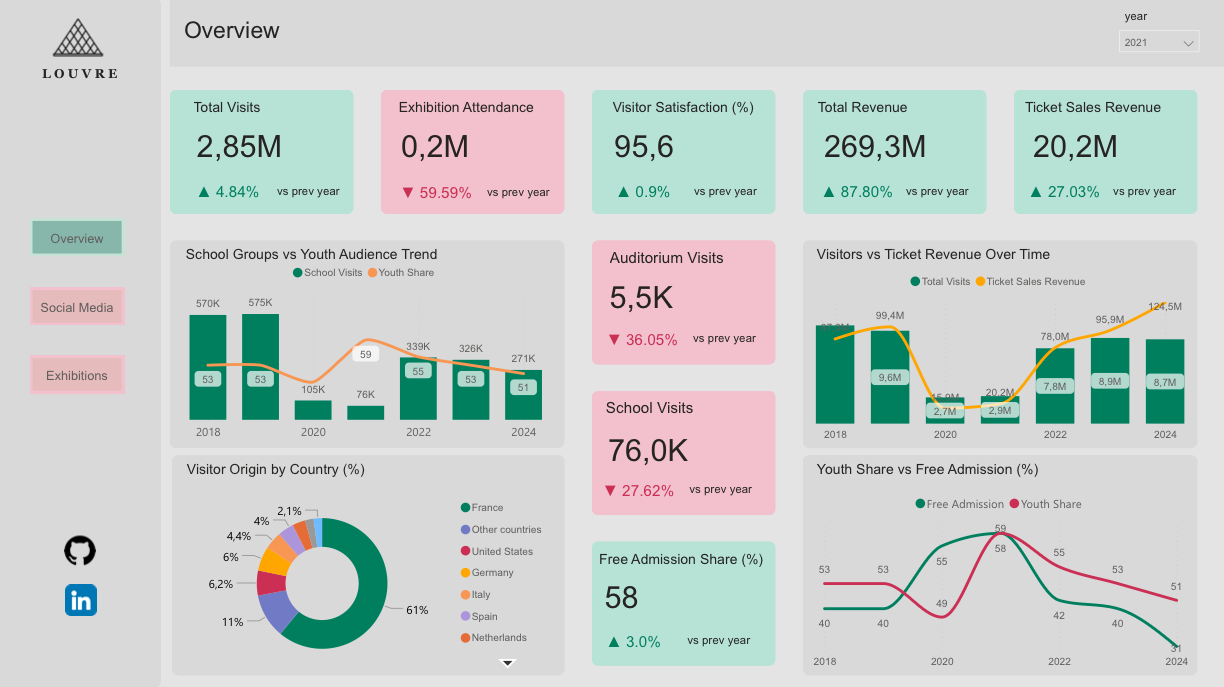

What the dashboard file says about the page in this screenshot:
{"tool":"powerbi","page":{"name":"Overview","canvas":[1280,720],"ordinal":0},"visuals":[{"type":"shape","box":[840.5,477.3,411.2,230],"z":0},{"type":"shape","box":[840.5,252.7,411.2,217.4],"z":1000},{"type":"shape","box":[180.2,253,412.1,217.4],"z":2000},{"type":"shape","box":[180,96,192,130],"z":3000},{"type":"textbox","box":[180,0,1100,72],"z":4000},{"type":"shape","box":[182,477.3,410.3,230],"z":5000},{"type":"lineClusteredColumnComboChart","fields":{"Category":["year.year"],"Y":["visitors_total.Total Visitors"],"Y2":["revenue.Total Revenue type 2"]},"box":[845.9,277.1,400.3,192.9],"z":6000},{"type":"textbox","box":[850,253,304.3,35.3],"z":7000},{"type":"textbox","box":[850.4,477.3,289.8,31.7],"z":8000},{"type":"slicer","fields":{"Values":["year.year"]},"box":[1160,24,104,40],"z":10000},{"type":"lineChart","fields":{"Y":["visitor_metrics.Free Entry Percent"],"Category":["year.year"],"Y2":["visitor_metrics.Youth Percent"]},"box":[845.9,508.1,401.2,199.2],"z":11000},{"type":"card","fields":{"Values":["visitors_total.Total Visitors"]},"box":[189,122,128,64],"z":12000},{"type":"donutChart","fields":{"Category":["country.country_name"],"Y":["visitors_by_country.Visitor by country"]},"box":[190.2,515.3,394.9,192],"z":13000},{"type":"shape","box":[0,0,171.2,720],"z":14000},{"type":"textbox","box":[192.9,477,394.9,29.9],"z":15000},{"type":"textbox","box":[1168,0,88,32],"z":16000},{"type":"textbox","box":[197,96,152,40],"z":18000},{"type":"card","fields":{"Values":["visitors_total.Visitor vs Prev Label"]},"box":[193,184,96,40],"z":19000},{"type":"textbox","box":[287,184,80,32],"z":20000},{"type":"shape","box":[620,96,192,130],"z":21000},{"type":"card","fields":{"Values":["visitor_metrics.Satisfaction"]},"box":[611,122,128,63.4],"z":22000},{"type":"textbox","box":[634,96,162.1,39.8],"z":23000},{"type":"card","fields":{"Values":["visitor_metrics.Satisfaction vs Prev Label"]},"box":[625.9,184,96,40],"z":24000},{"type":"textbox","box":[721.9,184,80,32],"z":25000},{"type":"shape","box":[840,96,192,130],"z":26000},{"type":"card","fields":{"Values":["revenue.Total Revenue type 1"]},"box":[852,122,128,64],"z":27000},{"type":"textbox","box":[848,96,152,40],"z":28000},{"type":"card","fields":{"Values":["revenue.Revenue vs Prev Label"]},"box":[848.9,184,96,40],"z":29000},{"type":"shape","box":[400.3,96,192,130.4],"z":30000},{"type":"card","fields":{"Values":["exhibition_visitors.Value Numeric exhibition"]},"box":[393.1,122,128,64],"z":31000},{"type":"textbox","box":[411.2,96,162.1,39.8],"z":32000},{"type":"card","fields":{"Values":["exhibition_visitors.Visitors ex vs Prev Label"]},"box":[409.8,184.6,96,40],"z":33000},{"type":"textbox","box":[505.8,184.6,80,32],"z":34000},{"type":"textbox","box":[942.8,184,79.9,31.4],"z":35000},{"type":"shape","box":[1060,96,192,130],"z":36000},{"type":"card","fields":{"Values":["revenue.Total Revenue type 2"]},"box":[1061,122,128,64],"z":37000},{"type":"textbox","box":[1064.2,96,182,39.8],"z":38000},{"type":"card","fields":{"Values":["revenue.Tickets vs Prev Label"]},"box":[1064.9,184,96,40],"z":39000},{"type":"textbox","box":[1158.8,184,79.9,31.4],"z":40000},{"type":"actionButton","box":[33.5,302.4,99.6,39.8],"z":41000},{"type":"lineClusteredColumnComboChart","fields":{"Category":["year.year"],"Y":["visitor_metrics.School Group Visitors"],"Y2":["visitor_metrics.Youth Percent"]},"box":[192.9,268.1,383.1,202],"z":42000},{"type":"shape","box":[620,253,192,130],"z":43000},{"type":"card","fields":{"Values":["visitor_metrics.Auditorium"]},"box":[617,279,109.6,64.3],"z":44000},{"type":"textbox","box":[631.1,253,152,40],"z":45000},{"type":"card","fields":{"Values":["visitor_metrics.Auditorium vs Prev Label"]},"box":[625,338,96,40],"z":46000},{"type":"textbox","box":[721,338,80,32],"z":47000},{"type":"shape","box":[620,410,192,130],"z":48000},{"type":"card","fields":{"Values":["visitor_metrics.School Group Visitors"]},"box":[619,439,119.5,64.3],"z":49000},{"type":"textbox","box":[626.6,410,152,40],"z":50000},{"type":"card","fields":{"Values":["visitor_metrics.School visitors vs Prev Label"]},"box":[620.5,495,96,40],"z":51000},{"type":"textbox","box":[716.5,495,80,32],"z":52000},{"type":"shape","box":[620,567.1,192,130],"z":53000},{"type":"card","fields":{"Values":["visitor_metrics.Free Entry Percent"]},"box":[613,593,77,63.4],"z":54000},{"type":"textbox","box":[620.4,566.9,198.3,39.8],"z":55000},{"type":"card","fields":{"Values":["visitor_metrics.Free entry vs Prev Label"]},"box":[616,652.8,96,40],"z":56000},{"type":"textbox","box":[715,652.8,80,32],"z":57000},{"type":"actionButton","box":[33.5,373,99.6,39.8],"z":58000},{"type":"image","box":[57.1,10.9,55.2,61.6],"z":59000},{"type":"textbox","box":[42,64,111,37],"z":60000},{"type":"image","box":[65,559.7,42.6,33.5],"z":61000},{"type":"actionButton","box":[33.5,229.9,99.6,39.8],"z":62000},{"type":"textbox","box":[192,253,288,36.2],"z":63000},{"type":"image","box":[62,612,49.8,33],"z":63001}]}

Visuals, with their boxes on the page's 1280x720 design canvas (x1, y1, x2, y2). These are canvas units, not pixel positions in the 1224x687 screenshot, which may show the page scaled, cropped or inside an application window:
shape: 840:477:1252:707
shape: 840:253:1252:470
shape: 180:253:592:470
shape: 180:96:372:226
textbox: 180:0:1280:72
shape: 182:477:592:707
lineClusteredColumnComboChart - year.year x visitors_total.Total Visitors: 846:277:1246:470
textbox: 850:253:1154:288
textbox: 850:477:1140:509
slicer - year.year: 1160:24:1264:64
lineChart - visitor_metrics.Free Entry Percent x year.year: 846:508:1247:707
card - visitors_total.Total Visitors: 189:122:317:186
donutChart - country.country_name x visitors_by_country.Visitor by country: 190:515:585:707
shape: 0:0:171:720
textbox: 193:477:588:507
textbox: 1168:0:1256:32
textbox: 197:96:349:136
card - visitors_total.Visitor vs Prev Label: 193:184:289:224
textbox: 287:184:367:216
shape: 620:96:812:226
card - visitor_metrics.Satisfaction: 611:122:739:185
textbox: 634:96:796:136
card - visitor_metrics.Satisfaction vs Prev Label: 626:184:722:224
textbox: 722:184:802:216
shape: 840:96:1032:226
card - revenue.Total Revenue type 1: 852:122:980:186
textbox: 848:96:1000:136
card - revenue.Revenue vs Prev Label: 849:184:945:224
shape: 400:96:592:226
card - exhibition_visitors.Value Numeric exhibition: 393:122:521:186
textbox: 411:96:573:136
card - exhibition_visitors.Visitors ex vs Prev Label: 410:185:506:225
textbox: 506:185:586:217
textbox: 943:184:1023:215
shape: 1060:96:1252:226
card - revenue.Total Revenue type 2: 1061:122:1189:186
textbox: 1064:96:1246:136
card - revenue.Tickets vs Prev Label: 1065:184:1161:224
textbox: 1159:184:1239:215
actionButton: 34:302:133:342
lineClusteredColumnComboChart - year.year x visitor_metrics.School Group Visitors: 193:268:576:470
shape: 620:253:812:383
card - visitor_metrics.Auditorium: 617:279:727:343
textbox: 631:253:783:293
card - visitor_metrics.Auditorium vs Prev Label: 625:338:721:378
textbox: 721:338:801:370
shape: 620:410:812:540
card - visitor_metrics.School Group Visitors: 619:439:738:503
textbox: 627:410:779:450
card - visitor_metrics.School visitors vs Prev Label: 620:495:716:535
textbox: 716:495:796:527
shape: 620:567:812:697
card - visitor_metrics.Free Entry Percent: 613:593:690:656
textbox: 620:567:819:607
card - visitor_metrics.Free entry vs Prev Label: 616:653:712:693
textbox: 715:653:795:685
actionButton: 34:373:133:413
image: 57:11:112:72
textbox: 42:64:153:101
image: 65:560:108:593
actionButton: 34:230:133:270
textbox: 192:253:480:289
image: 62:612:112:645
